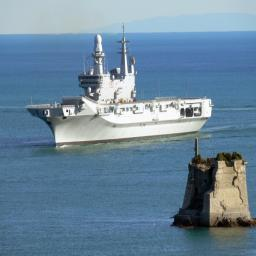Portanaves: (26, 21, 216, 154)
